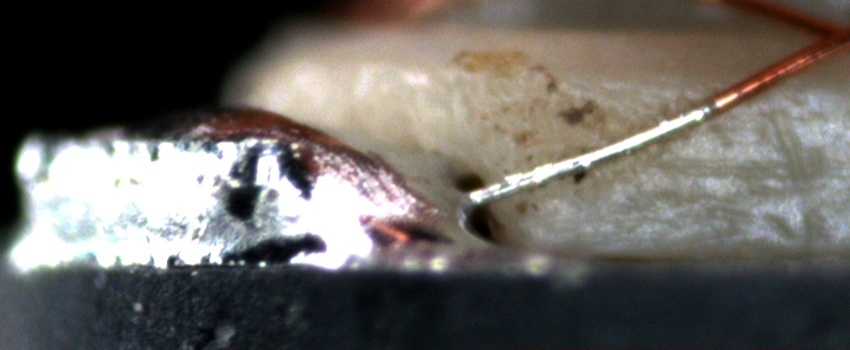CL: (794, 5, 849, 62)
DL: (480, 58, 850, 122), (629, 132, 850, 196)
TS: (462, 107, 713, 209)
